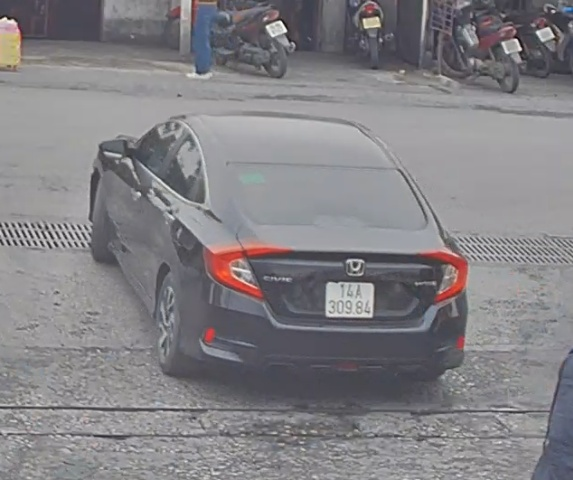vehicle plate: (319, 275, 378, 326)
